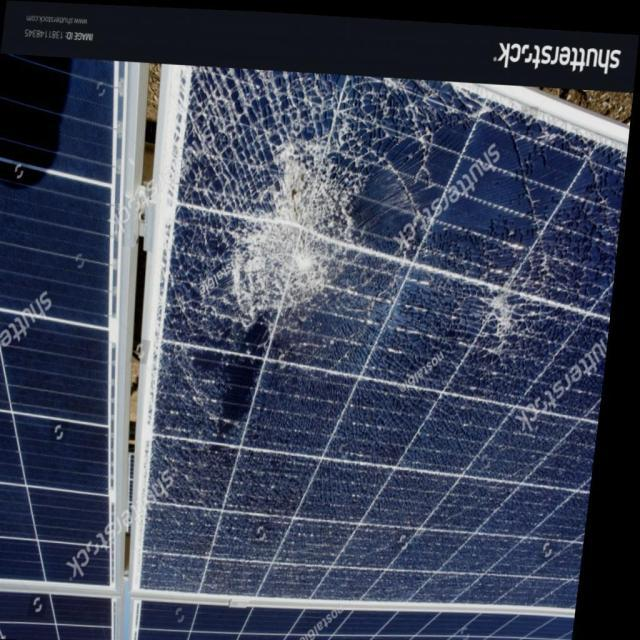cracked: (152, 64, 623, 612)
